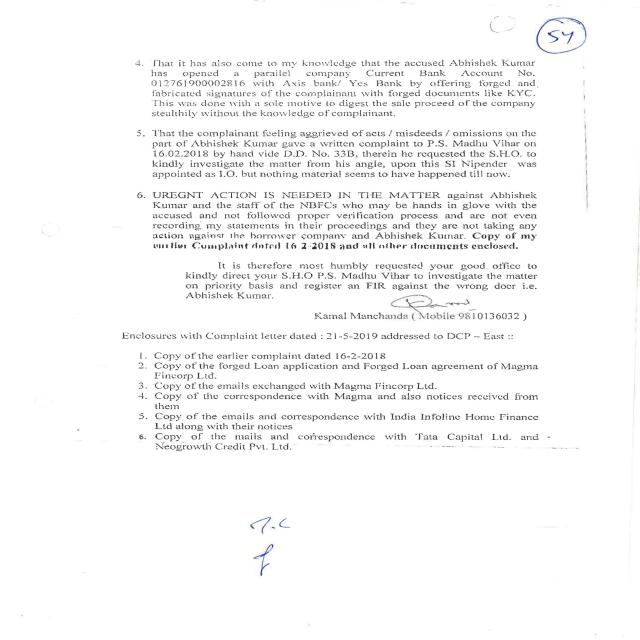page-number: (523, 0, 640, 59)
